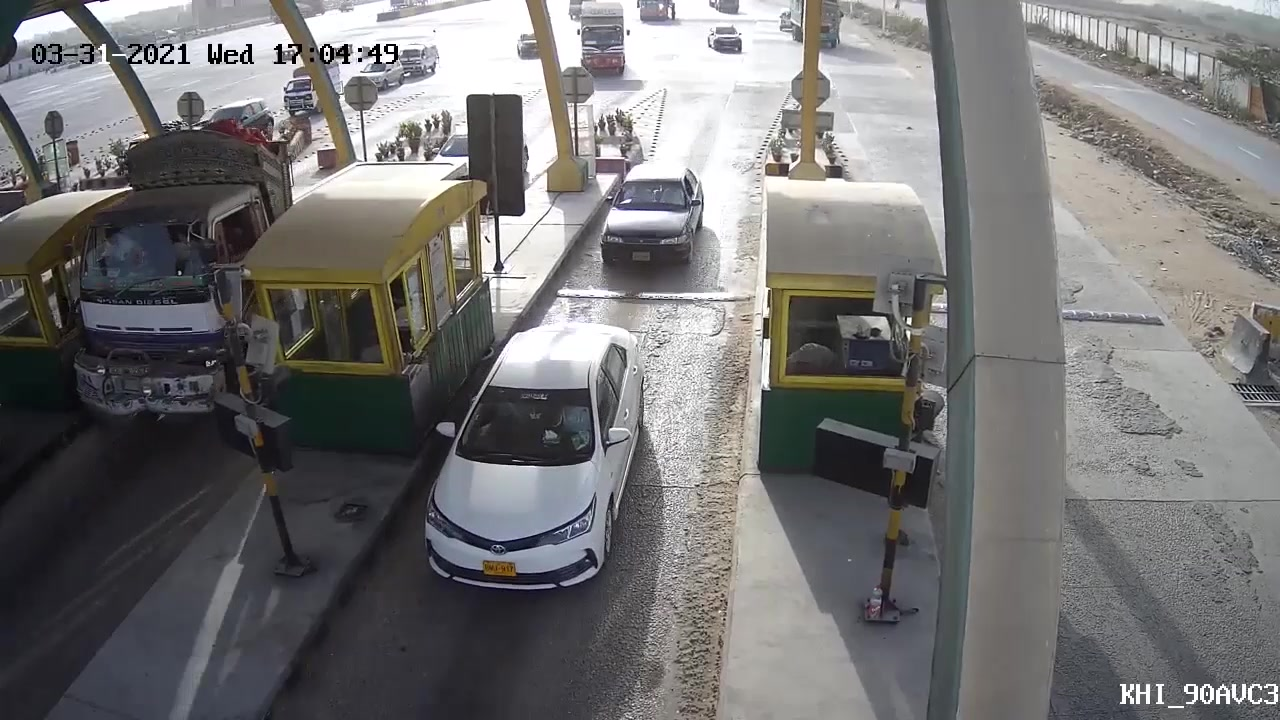F1: (413, 322, 663, 596), (592, 151, 707, 279)
